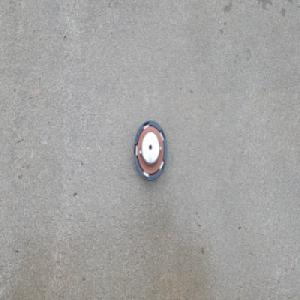FuelCap: (131, 118, 166, 182)
